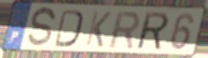6: (168, 12, 196, 52)
D: (53, 8, 84, 49)
K: (83, 10, 113, 49)
R: (107, 9, 142, 50), (137, 10, 171, 51)
S: (25, 6, 58, 50)
